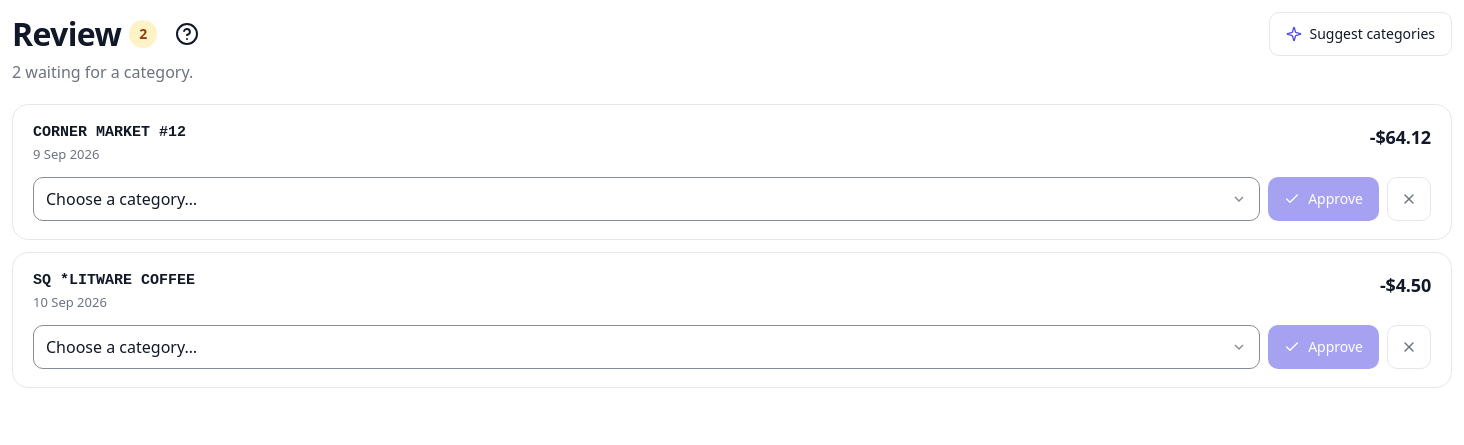
Scenario: Review says why nothing was suggested, in its own words › asks for the helper’s new copy when an older one turns the request away
The image size is (1464, 445).
Click the button "Suggest categories": [1360, 34] box [1268, 12, 1452, 56]
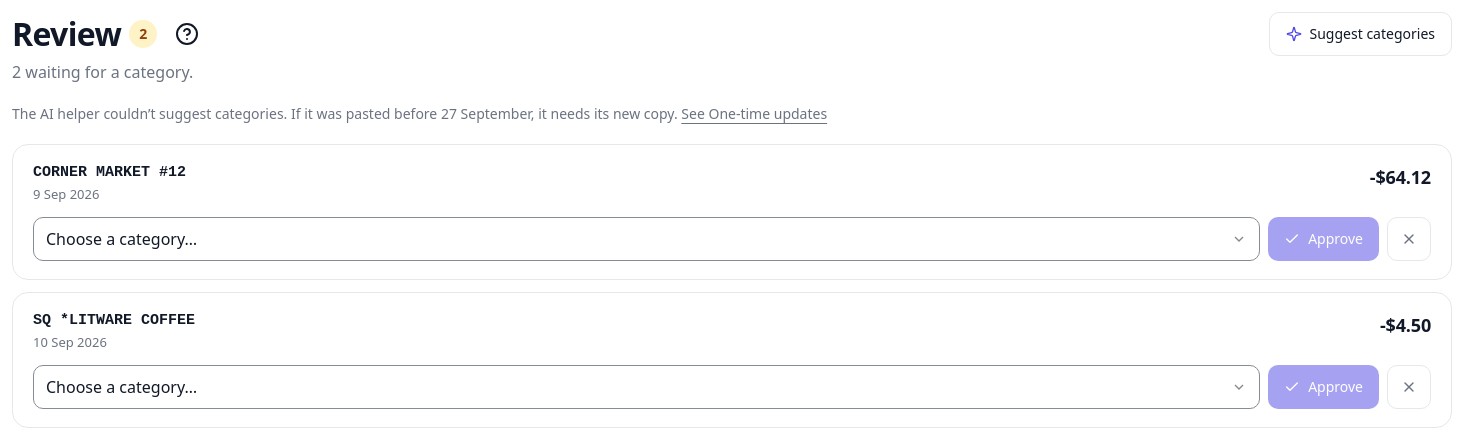
Check: the text "it needs its new copy." is shown, box [12, 104, 678, 123]
